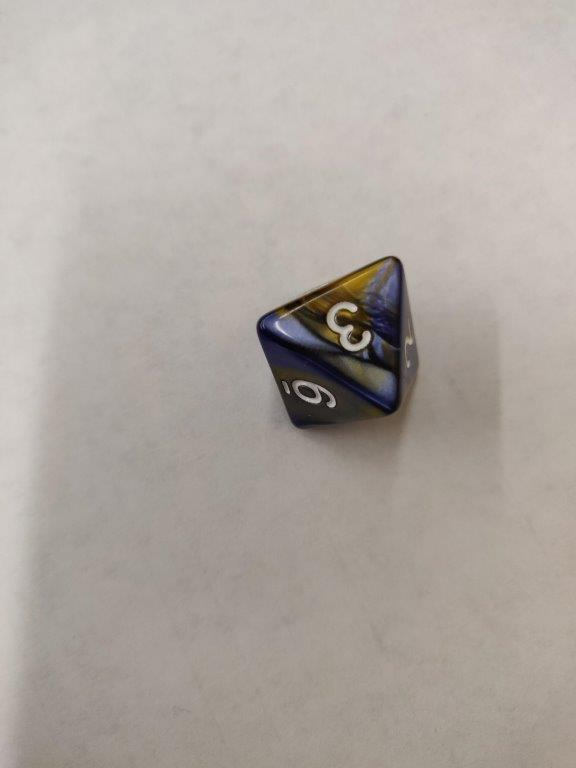d8-3: (258, 256, 423, 432)
